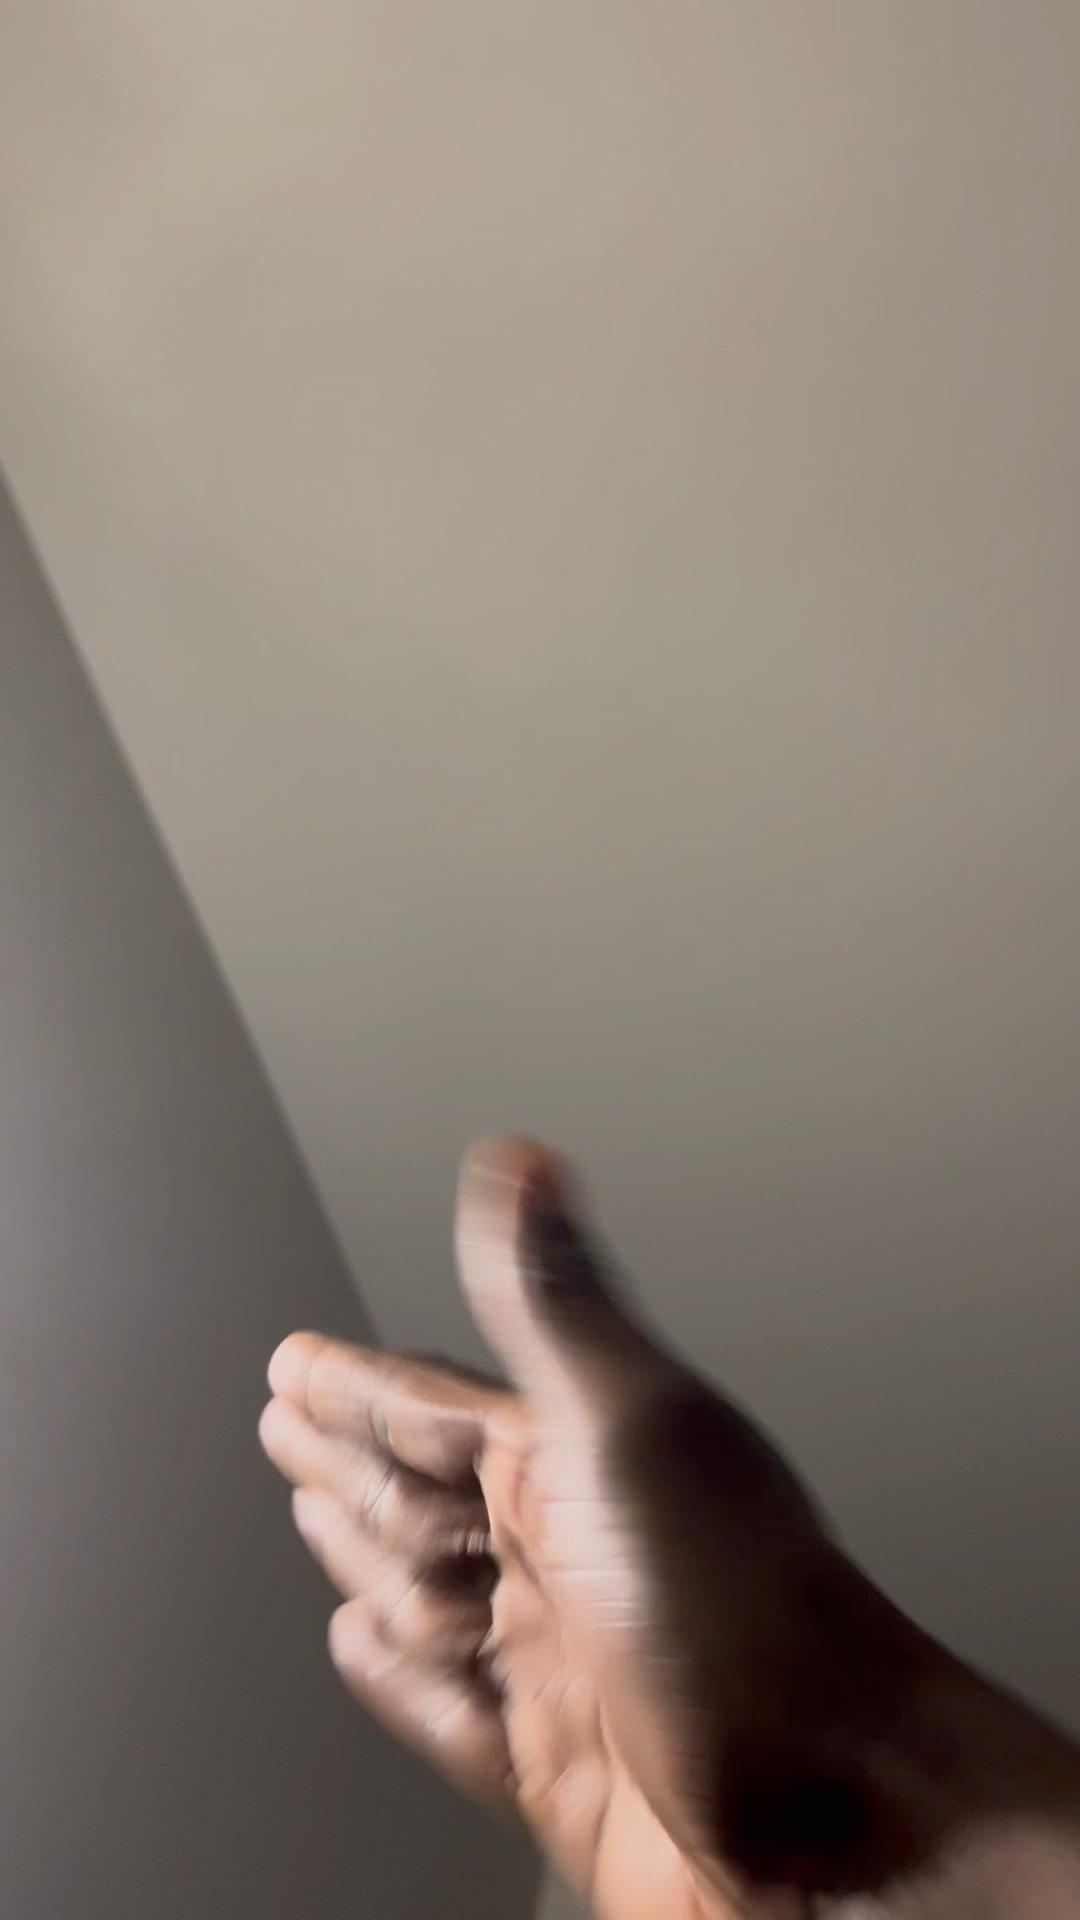Paper: (250, 1143, 1007, 1920)
